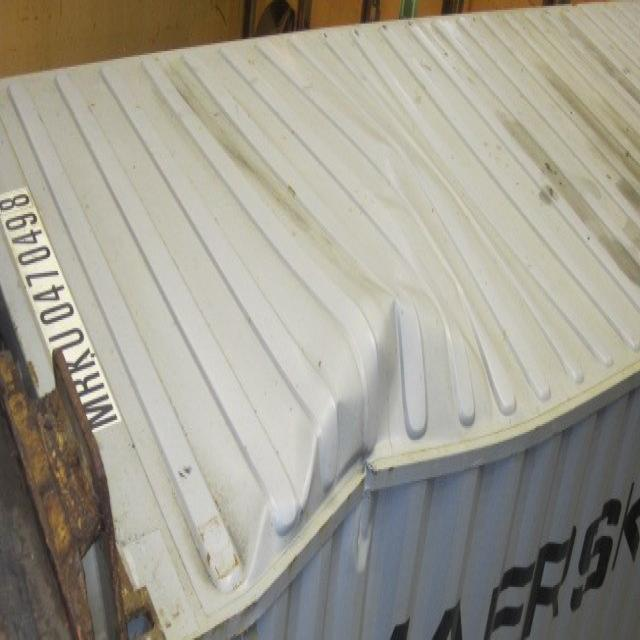dent: (293, 432, 439, 592), (322, 89, 432, 246), (359, 293, 416, 447)
